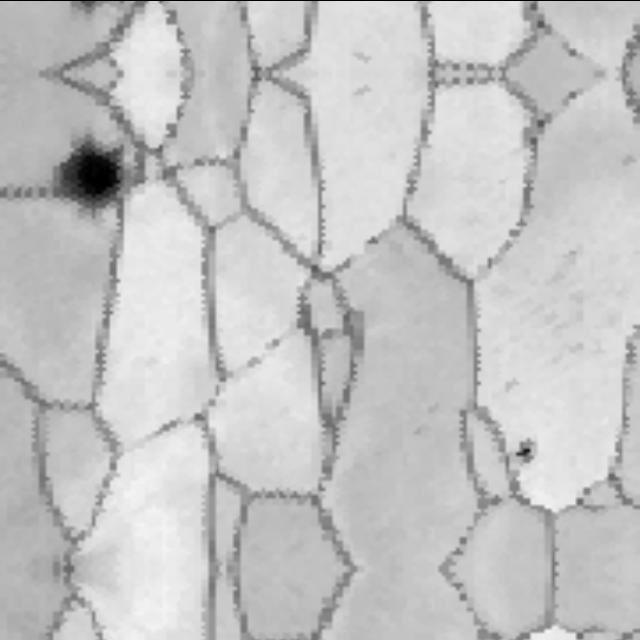good_void: (36, 125, 139, 218), (505, 429, 539, 470), (496, 376, 524, 403), (347, 78, 374, 99), (347, 45, 374, 66)
